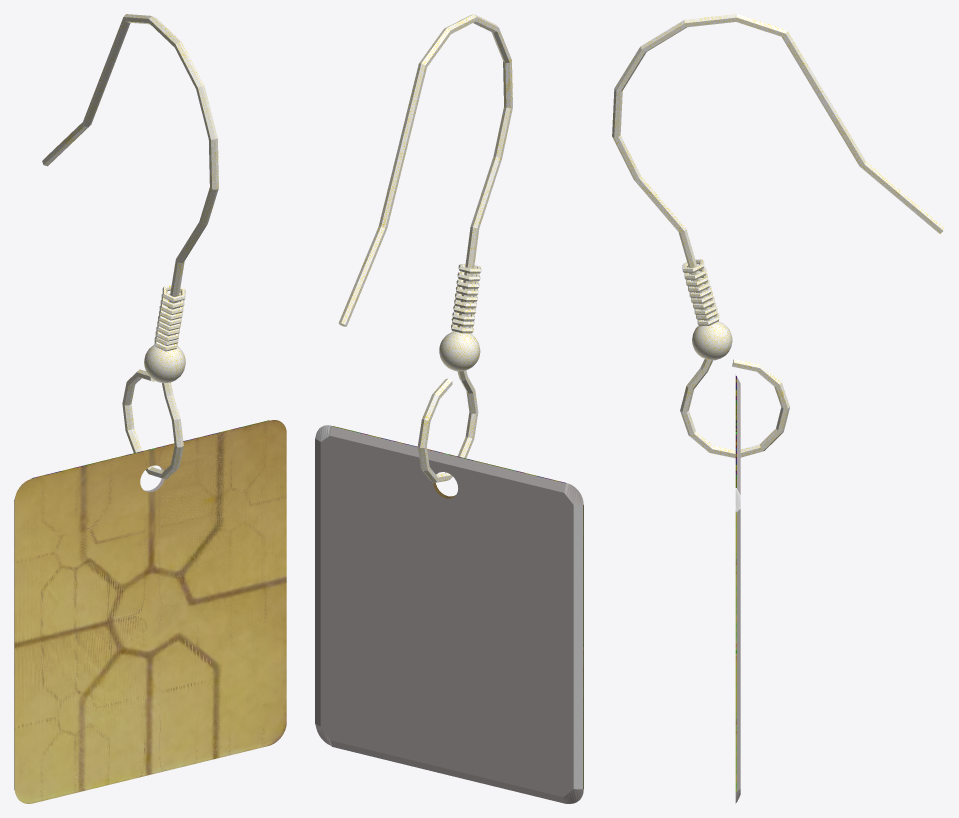
The model's file is puce_or_ronde_with_attache.dae.
The picture shows the model from 3 angles, left to right: view 1: azimuth 30°, elevation 25°; view 2: azimuth 150°, elevation 25°; view 3: azimuth 270°, elevation 25°; orthographic projection. The views are drawn at different scales.
Visible parts, largest first — view 1: instance_0, instance_1 (×2); view 2: instance_0 (×2), instance_1 (×2); view 3: instance_1 (×2), instance_0.
Boxes of the visible parts, x1,y1,x2,y2 form: instance_0: (14, 420, 286, 803); instance_1 (×2): (42, 14, 218, 479); instance_0 (×2): (315, 426, 583, 803); instance_1 (×2): (338, 14, 512, 483); instance_1 (×2): (612, 14, 944, 458); instance_0: (737, 377, 740, 791).
Size of the model in its own units: 41.39 by 45.33 by 110.
Materials: 7 (3 with a texture image).
